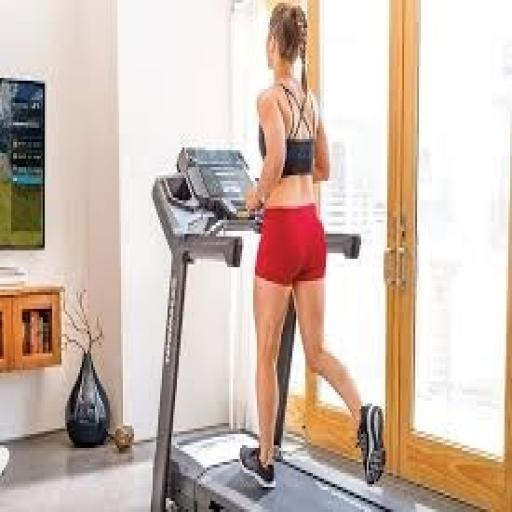running: (236, 0, 388, 493)
